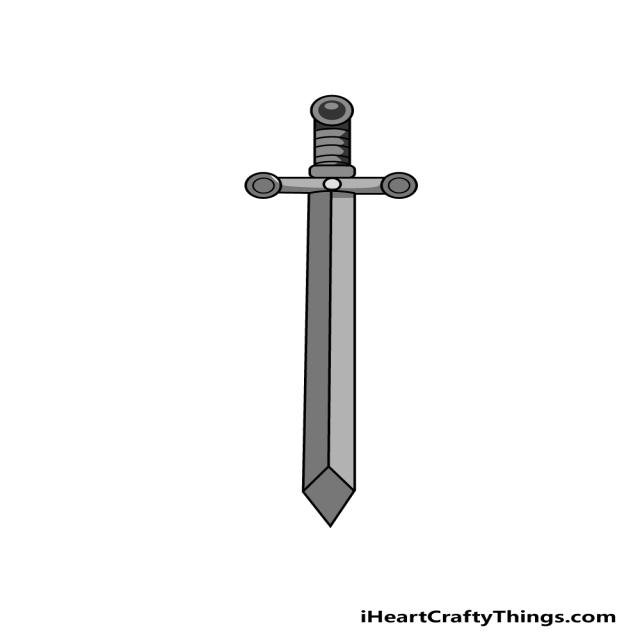Knife: (216, 87, 463, 547)
